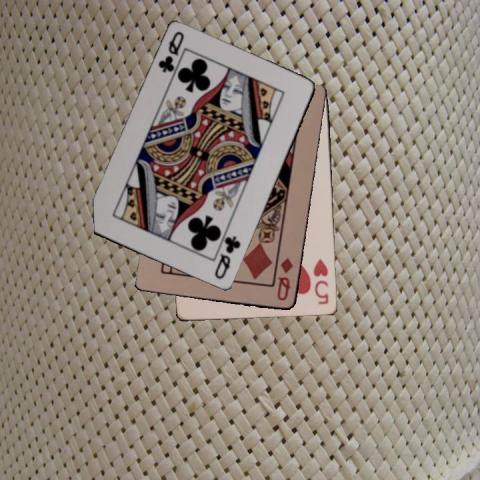5h: (311, 255, 330, 307)
Qc: (211, 234, 242, 282), (155, 28, 186, 74)
Qd: (274, 254, 295, 302)
